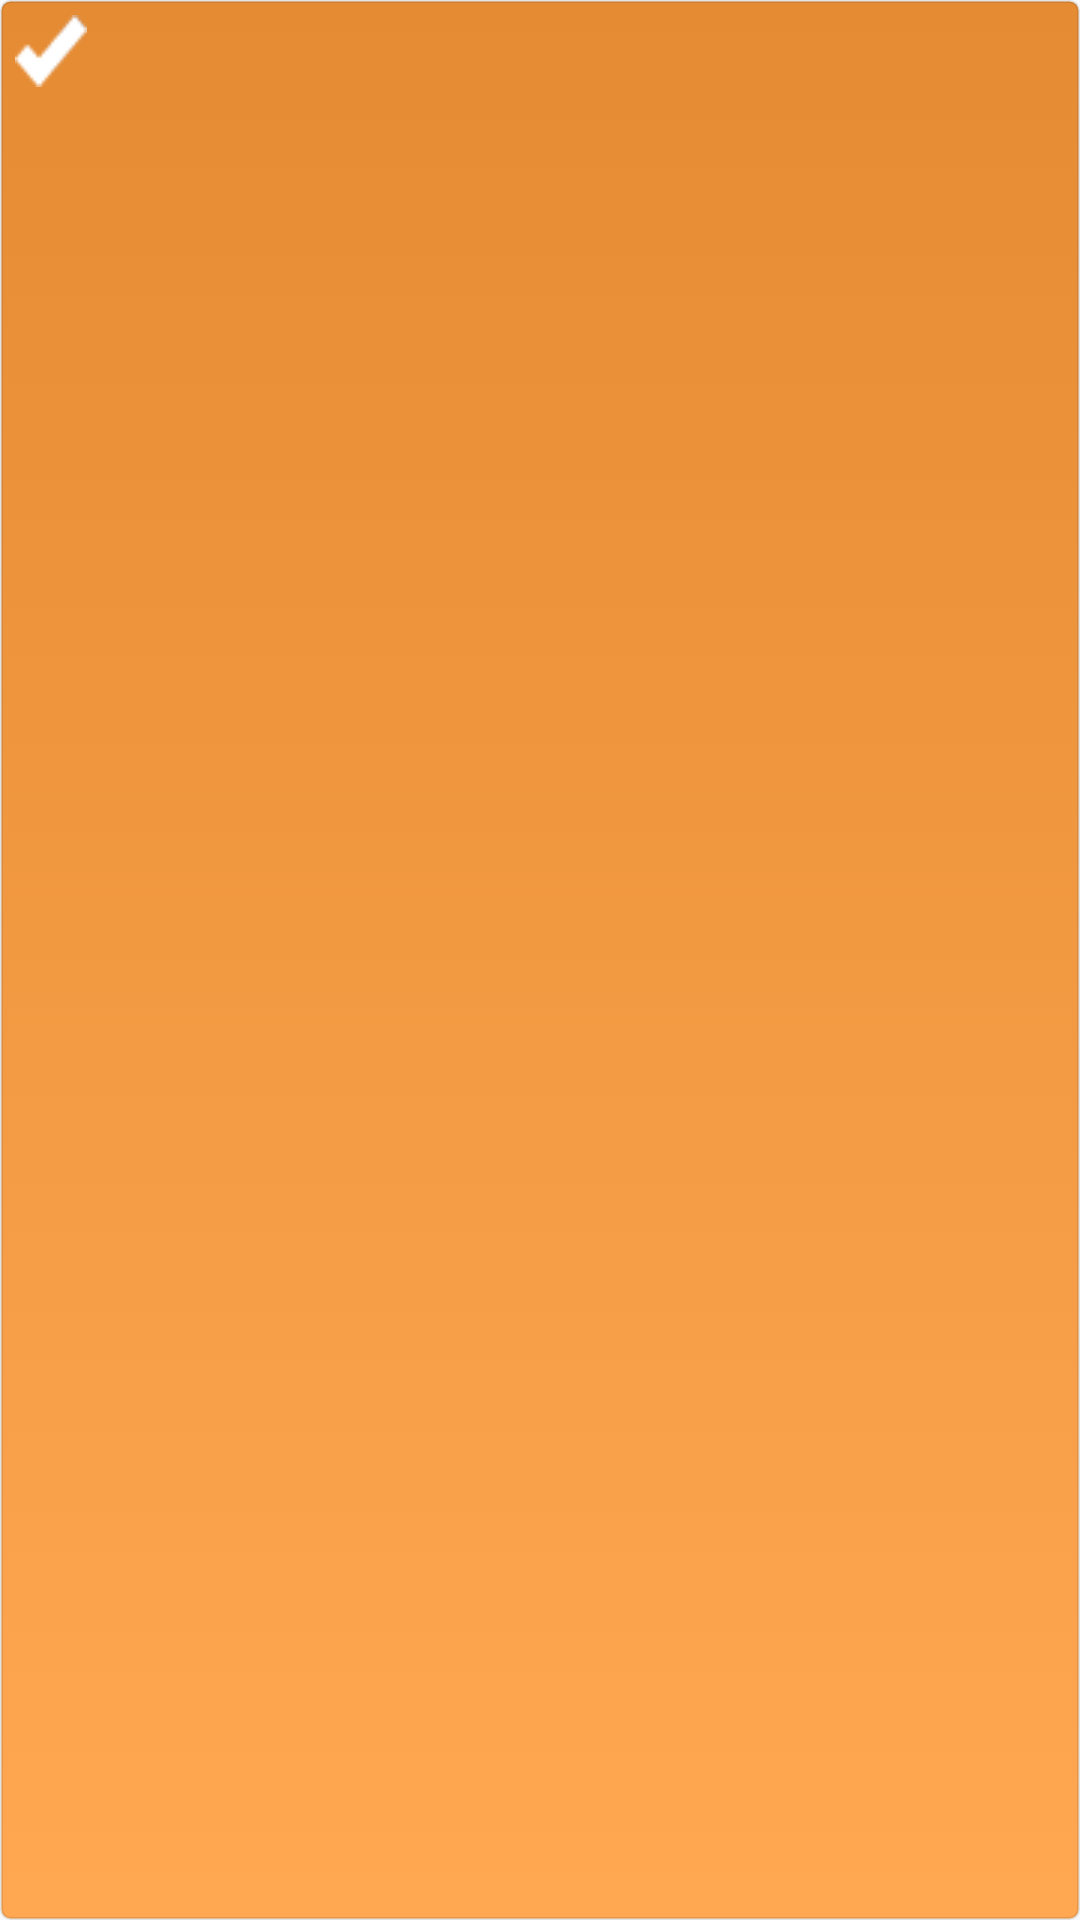

Named icons in this screenshot (1080*1920) and their bounding boxes, (x1, y1, x2, y2):
tick: (15, 15, 87, 87)
